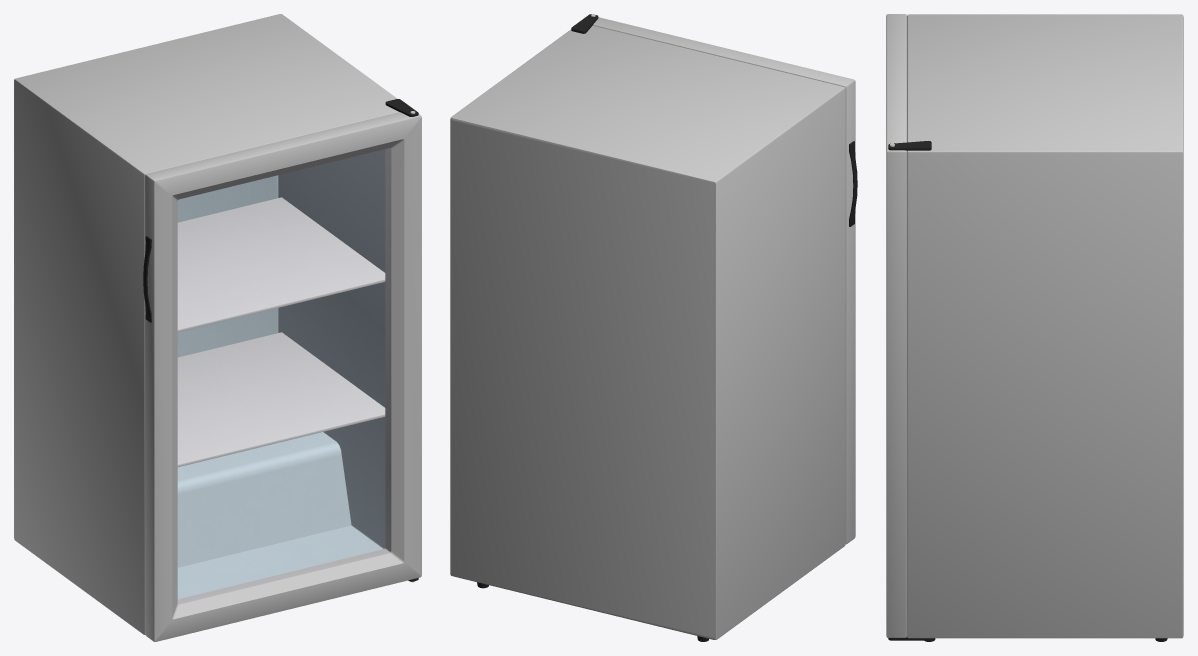
The model's file is Refrigerator01.FBX.
3 renders of one model, left to right at view 1: azimuth 30°, elevation 25°; view 2: azimuth 150°, elevation 25°; view 3: azimuth 270°, elevation 25°, orthographic. The views are drawn at different scales.
Visible parts, largest first — view 1: Refrigerator01, Refrigerator01Door; view 2: Refrigerator01, Refrigerator01Door; view 3: Refrigerator01, Refrigerator01Door.
Boxes of the visible parts, left/top/right/bottom form: Refrigerator01: left=14, top=14, right=418, bottom=634; Refrigerator01Door: left=143, top=112, right=421, bottom=641; Refrigerator01: left=450, top=14, right=845, bottom=641; Refrigerator01Door: left=593, top=17, right=857, bottom=544; Refrigerator01: left=888, top=14, right=1183, bottom=641; Refrigerator01Door: left=886, top=14, right=906, bottom=637.
Size of the model in its own units: 69.88 by 117 by 62.41.
